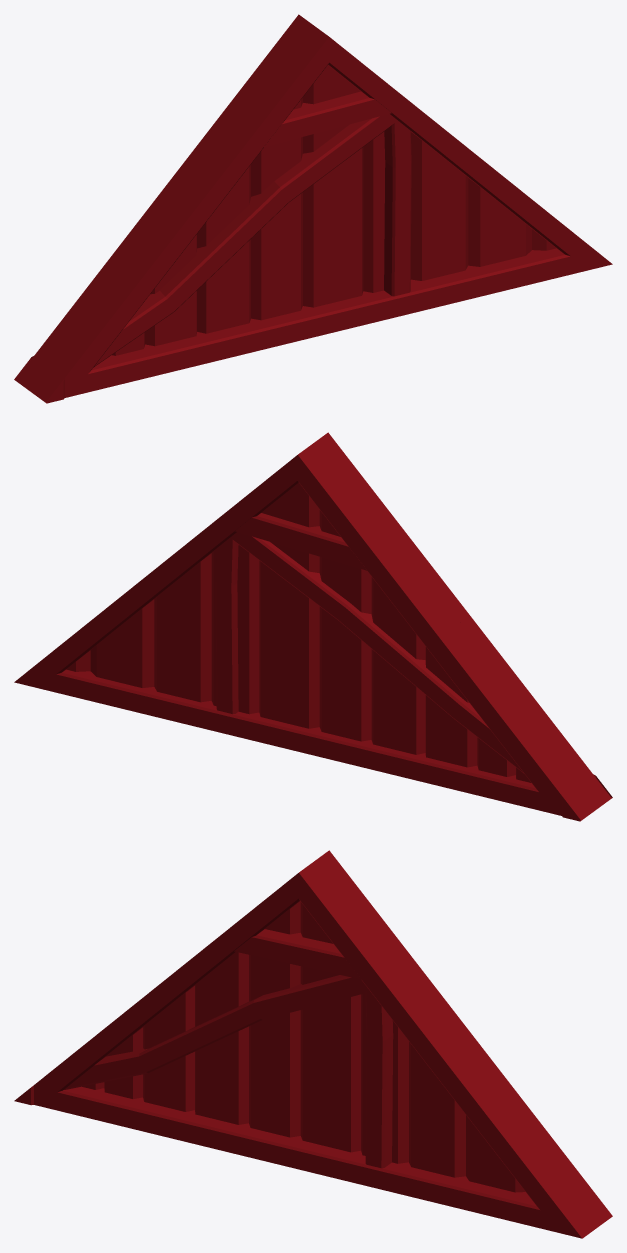
The model's file is SM_MH_01_Wood_03_Wall_Roof_Top_01.fbx.
3 views of the same model, one above another, from view 1: azimuth 30°, elevation 25°; view 2: azimuth 150°, elevation 25°; view 3: azimuth 330°, elevation 25° (orthographic).
Visible parts, largest first — view 1: SM_MH_01_Wood_03_Wall_Roof_Top_01_LOD0; view 2: SM_MH_01_Wood_03_Wall_Roof_Top_01_LOD0; view 3: SM_MH_01_Wood_03_Wall_Roof_Top_01_LOD0.
Boxes of the visible parts, box(x1,y1,x2,y2) form: SM_MH_01_Wood_03_Wall_Roof_Top_01_LOD0: box(14, 14, 612, 403); SM_MH_01_Wood_03_Wall_Roof_Top_01_LOD0: box(14, 432, 612, 821); SM_MH_01_Wood_03_Wall_Roof_Top_01_LOD0: box(14, 850, 612, 1238).
Size of what is drawn, in the model's own units: 300 by 150 by 30.
